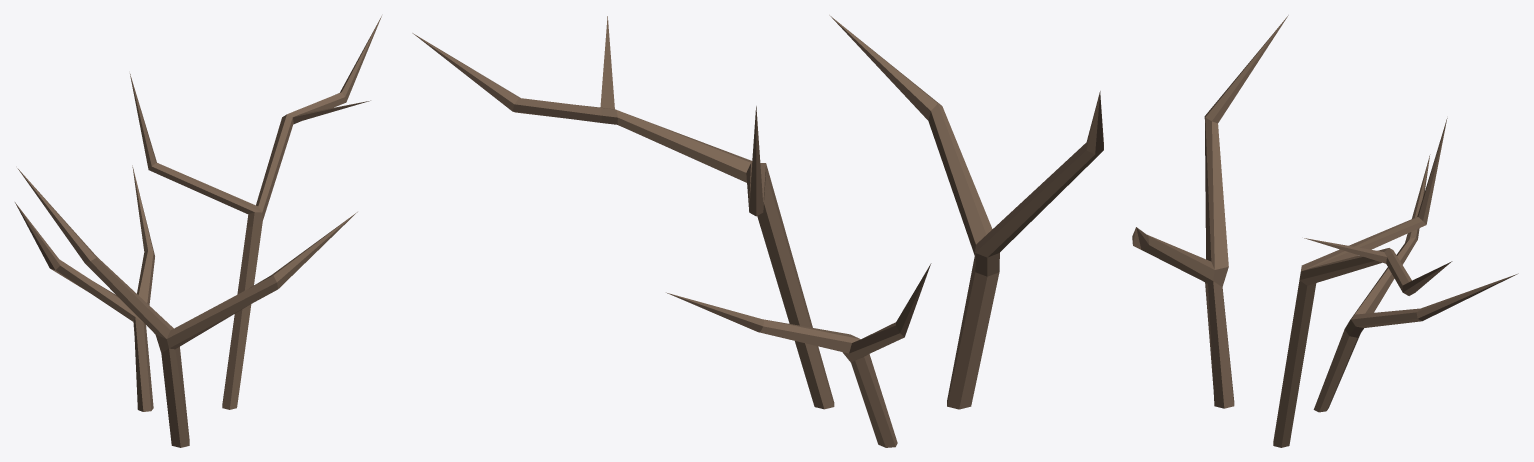
Rendered from Bare_bush_1.fbx.
3 renders of one model, left to right at view 1: azimuth 30°, elevation 25°; view 2: azimuth 150°, elevation 25°; view 3: azimuth 270°, elevation 25°, orthographic. The views are drawn at different scales.
Parts seen in each view (by area): view 1: Bare_bush_1; view 2: Bare_bush_1; view 3: Bare_bush_1.
Part boxes in pixels (x1=…): Bare_bush_1: x1=15, y1=16, x2=381, y2=447; Bare_bush_1: x1=412, y1=15, x2=1103, y2=447; Bare_bush_1: x1=1132, y1=15, x2=1518, y2=447.
Bounding box in the file's own units: 92.95 × 64.32 × 58.12.
